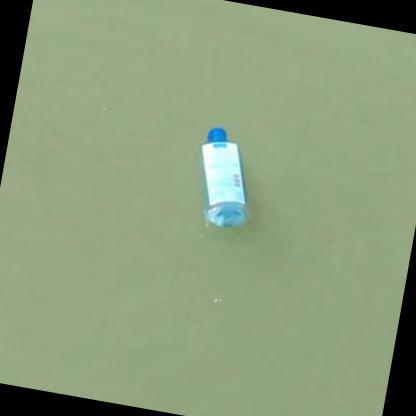Glass: (200, 125, 247, 229)
